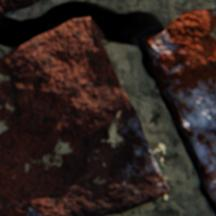brick: (0, 16, 168, 215), (145, 8, 215, 204)
broken_brick: (0, 0, 39, 16)
crack: (0, 0, 215, 215)
